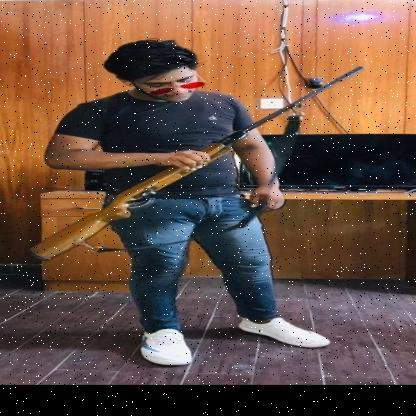rifle: (26, 64, 368, 262)
